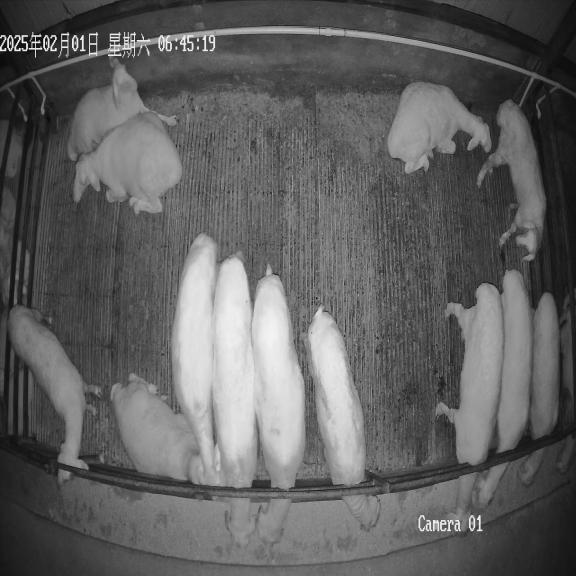eating: (435, 282, 504, 532), (305, 306, 380, 532), (252, 262, 305, 546), (473, 270, 533, 508), (212, 252, 258, 546), (518, 292, 560, 486)
lying: (68, 58, 176, 160), (73, 113, 182, 213), (110, 374, 206, 483), (387, 82, 491, 174)
stand: (7, 304, 88, 484), (171, 234, 219, 484), (477, 100, 546, 261)
